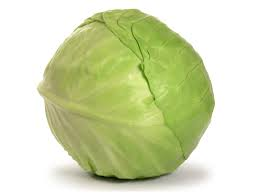cabbage: (43, 9, 219, 183)
